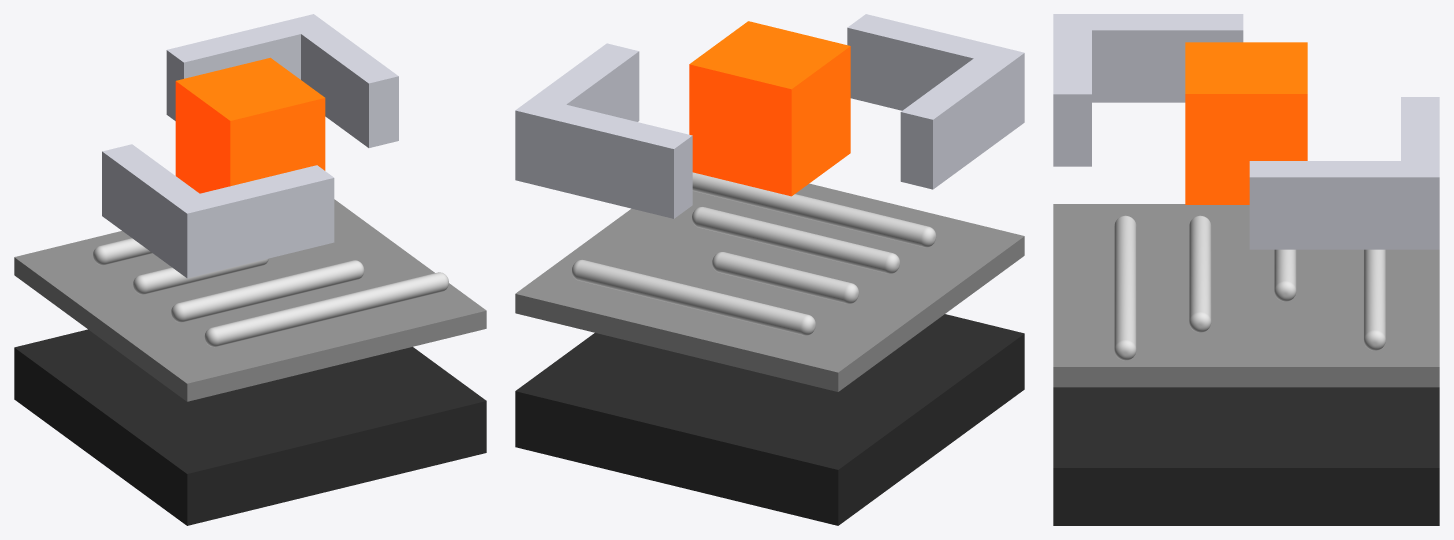
The picture shows the model from 3 angles, left to right: view 1: azimuth 30°, elevation 25°; view 2: azimuth 150°, elevation 25°; view 3: azimuth 270°, elevation 25°; orthographic projection. The views are drawn at different scales.
Parts seen in each view (by area): view 1: 底座, 灰色板, 尖角, 橙色方块, 圆柱; view 2: 底座, 灰色板, 尖角, 橙色方块, 圆柱; view 3: 灰色板, 底座, 尖角, 橙色方块, 圆柱.
Boxes of the visible parts, x1=… form: 底座: x1=14, y1=329, x2=486, y2=525; 灰色板: x1=14, y1=199, x2=486, y2=401; 尖角: x1=102, y1=14, x2=398, y2=278; 橙色方块: x1=175, y1=57, x2=325, y2=193; 圆柱: x1=93, y1=238, x2=448, y2=347; 底座: x1=515, y1=314, x2=1024, y2=525; 灰色板: x1=515, y1=183, x2=1024, y2=391; 尖角: x1=515, y1=14, x2=1024, y2=218; 橙色方块: x1=689, y1=21, x2=850, y2=196; 圆柱: x1=572, y1=172, x2=936, y2=335; 灰色板: x1=1053, y1=204, x2=1439, y2=387; 底座: x1=1053, y1=387, x2=1439, y2=525; 尖角: x1=1053, y1=14, x2=1439, y2=249; 橙色方块: x1=1185, y1=42, x2=1307, y2=204; 圆柱: x1=1114, y1=215, x2=1385, y2=360.
Bounding box in the file's own units: 2 × 2.15 × 2.
